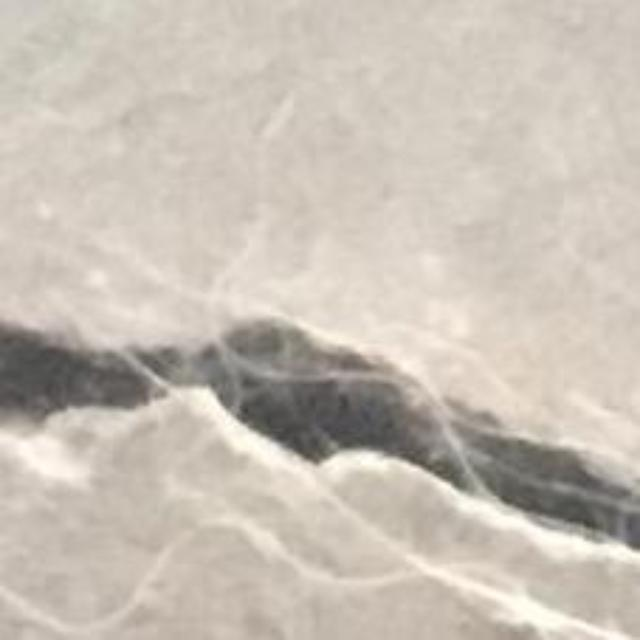crack: (0, 319, 639, 546)
